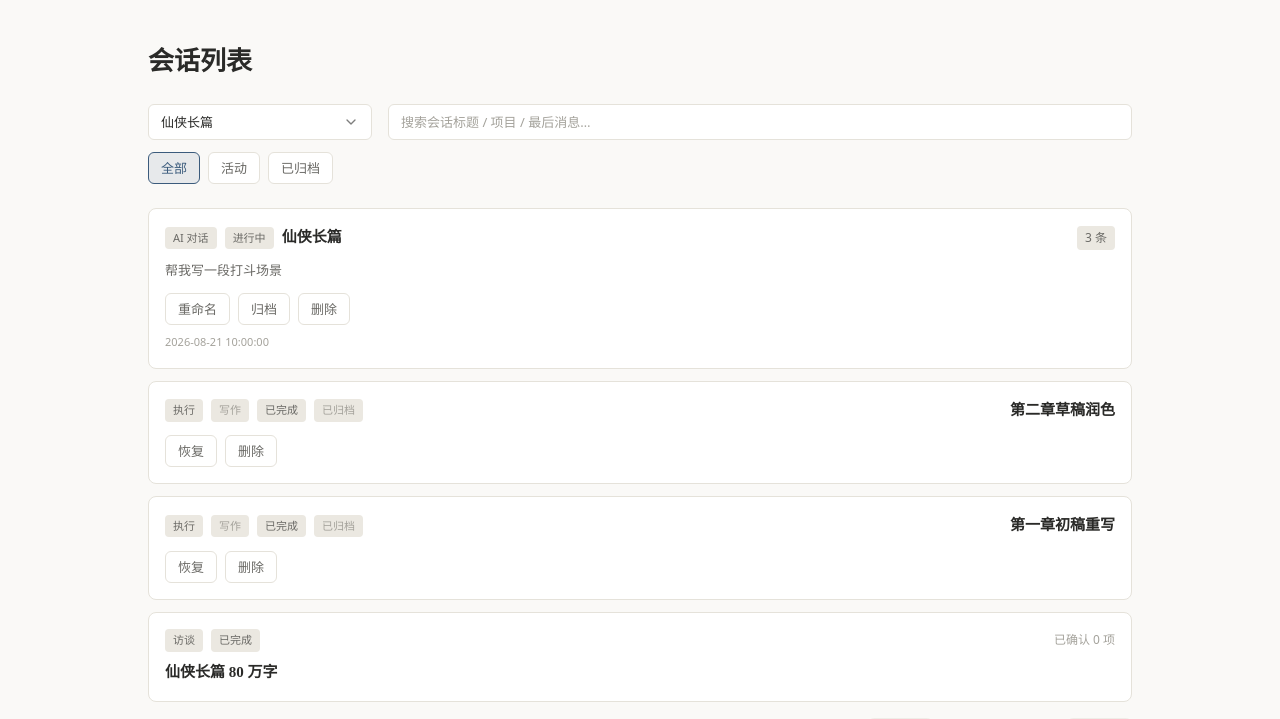
it: 会话页 — 归档回归（Q3：归档两个会话，刷新后两个都显示） › Q3 归档回归：p1 两个执行会话均归档 → 统一目录完整合并三类（4 张），两个归档执行都显示 + 访谈/AI 对话不因归档隐藏
Expected: the number of list items with test id "session-directory-card" is 4, [148,208,1132,369]; [148,381,1132,484]; [148,496,1132,600]; [148,612,1132,702]
Expected: the text with test id "session-archived-ex-archived-p1" is shown, [314,399,363,422]
// 归档 filter 下：仅显示两个归档执行（访谈/对话被 is_deleted 过滤）
Click the button with test id "sessions-filter-archived" at (300, 168), box [268,152,333,184]
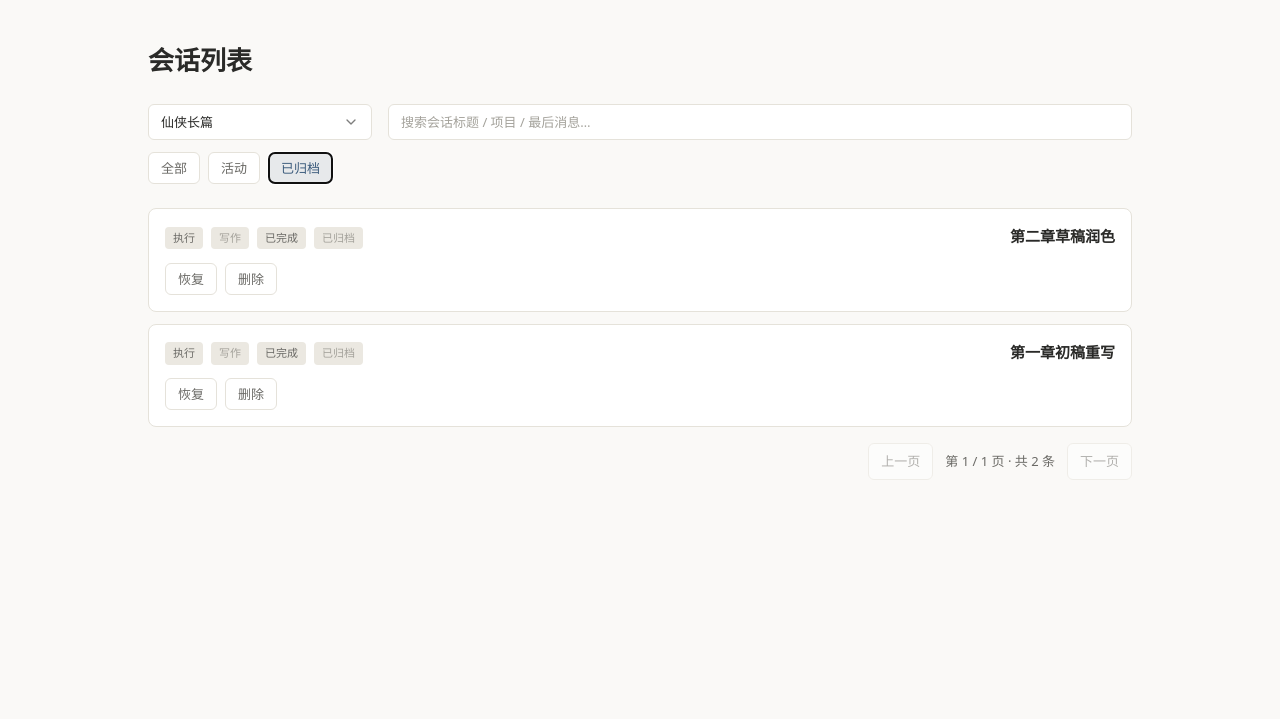
Expected: the button with test id "session-title-ex-archived-p1" is shown, [1010,225,1115,251]
Now the button with test id "session-title-pl-p1" is gone
Now the button with test id "session-title-conv-conv-1" is gone
